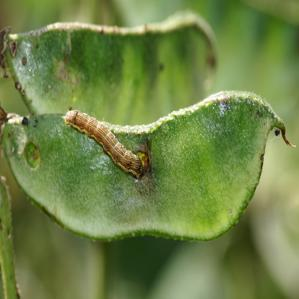Cotton bollworm: (54, 92, 171, 194)
